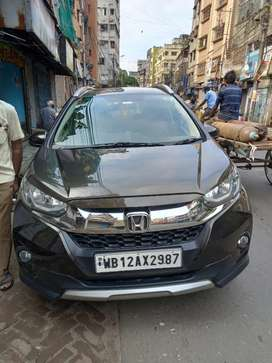WB12AX2987: (94, 246, 182, 273)
